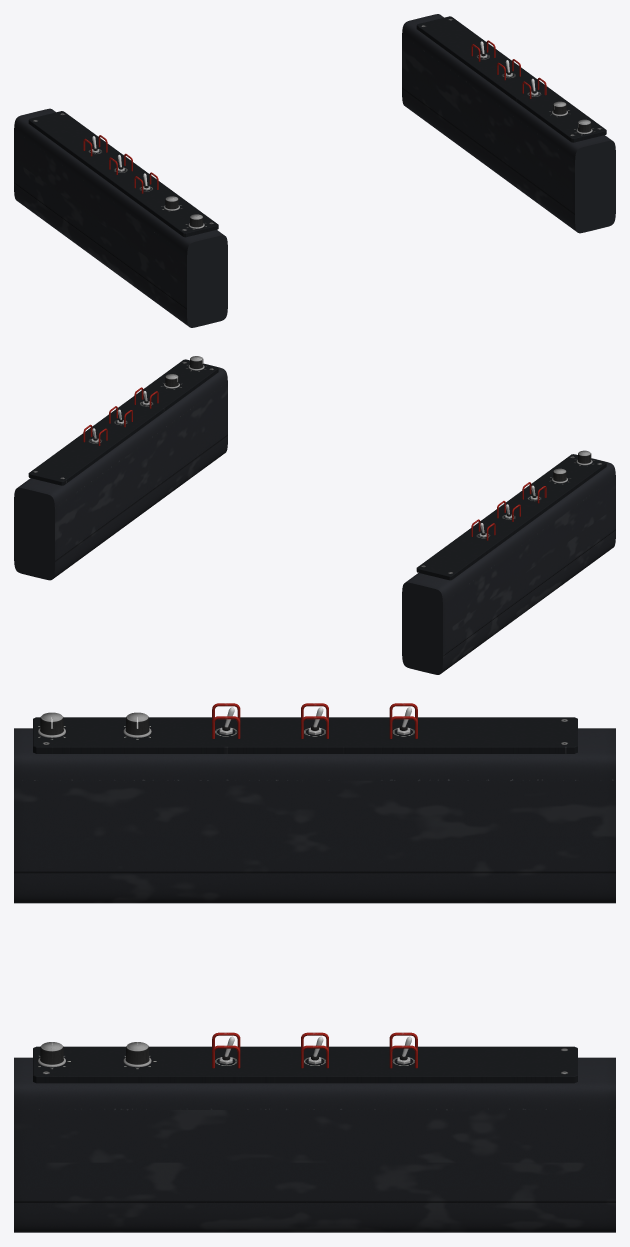
The model's file is console_hd.glb.
3 renders of one model, top to bottom at view 1: azimuth 30°, elevation 25°; view 2: azimuth 150°, elevation 25°; view 3: azimuth 270°, elevation 25°, orthographic. The views are drawn at different scales.
Parts seen in each view (by area): view 1: ConsoleR, ConsoleL; view 2: ConsoleL, ConsoleR; view 3: ConsoleL, ConsoleR.
Boxes of the visible parts, x1=… form: ConsoleR: x1=402, y1=14, x2=615, y2=233; ConsoleL: x1=14, y1=108, x2=227, y2=327; ConsoleL: x1=402, y1=450, x2=615, y2=674; ConsoleR: x1=14, y1=356, x2=227, y2=580; ConsoleL: x1=14, y1=703, x2=615, y2=903; ConsoleR: x1=14, y1=1032, x2=615, y2=1232.
Bounding box in the file's own units: 1.36 × 0.3185 × 0.95.
Materials: 1 (1 with a texture image).
